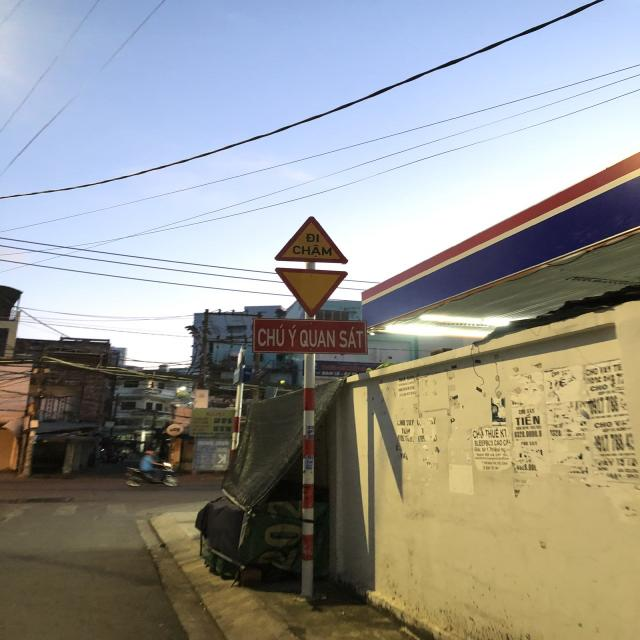Bien bao di cham: (270, 212, 356, 266)
Bien bao giao nhau voi duong uu tien: (266, 264, 360, 319)
